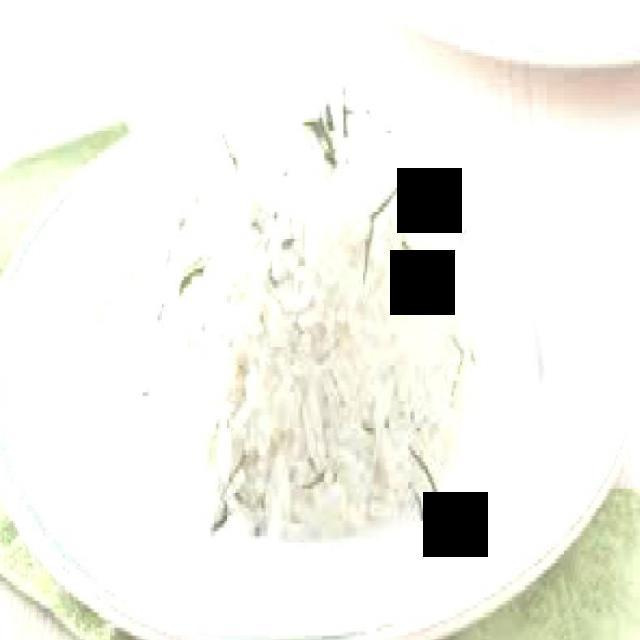Chicken -Chicken Inasal-: (208, 229, 462, 539)
